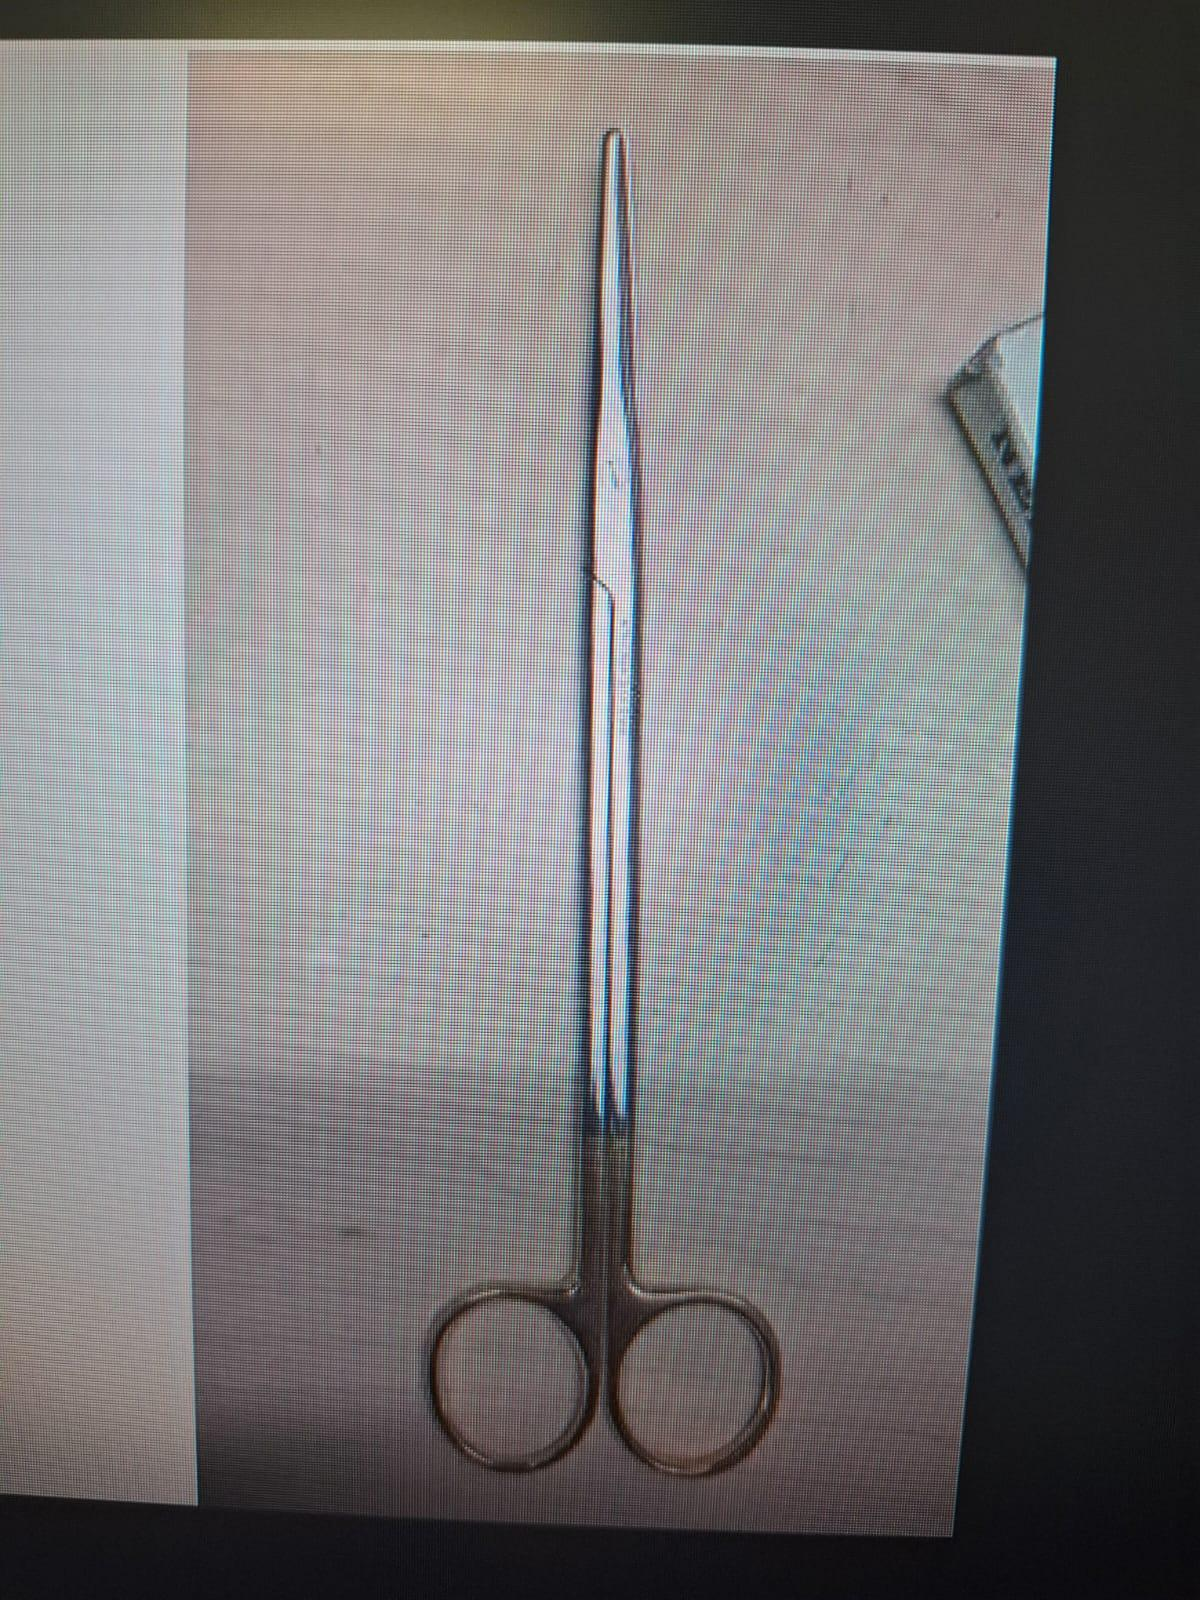Metzenbaum Sciccors: (405, 110, 811, 1498)
